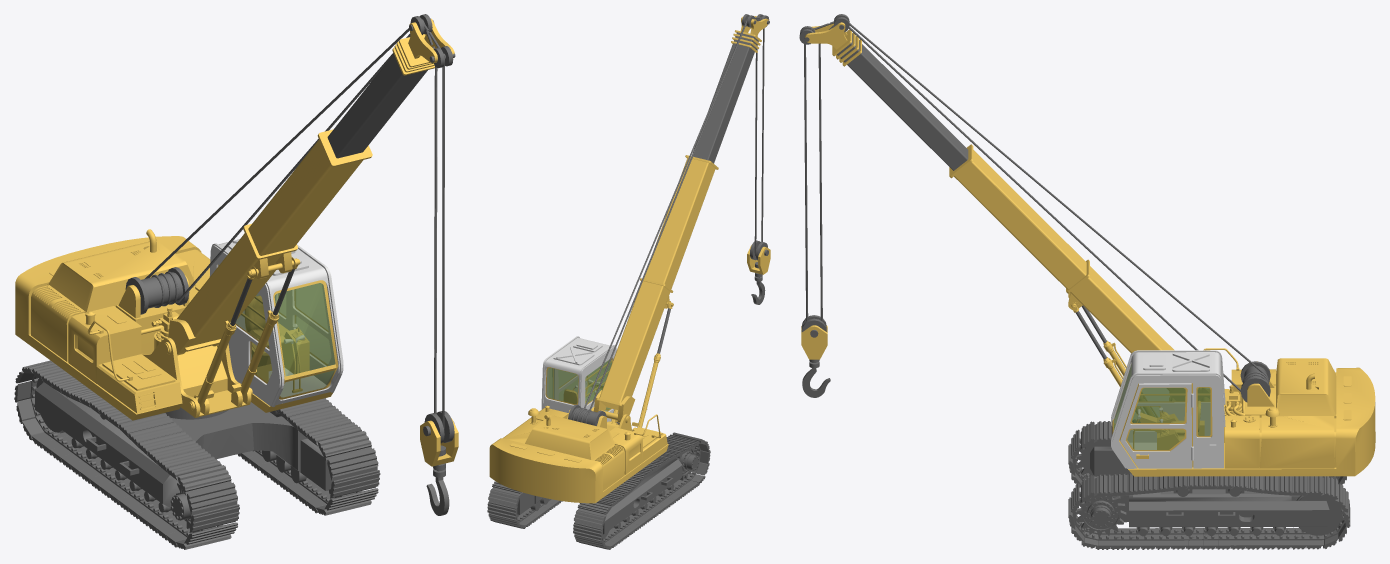
3 views of the same model, side by side, from view 1: azimuth 30°, elevation 25°; view 2: azimuth 150°, elevation 25°; view 3: azimuth 270°, elevation 25° (orthographic). The views are drawn at different scales.
Parts seen in each view (by area): view 1: cadnav, crawler, crane2, cabin2, cabin1, crane1, hook, cadnav.002; view 2: cadnav, crawler, crane2, cabin2, cabin1, crane1, hook, cadnav.002; view 3: cadnav, crawler, cabin2, crane2, cabin1, crane1, hook, cadnav.002.
Boxes of the visible parts, x1,y1,x2,y2 form: cadnav: [15, 129, 372, 420]; crawler: [14, 360, 380, 549]; crane2: [125, 14, 438, 325]; cabin2: [209, 239, 343, 406]; cabin1: [236, 283, 335, 397]; crane1: [428, 32, 455, 429]; hook: [420, 411, 458, 515]; cadnav.002: [392, 18, 454, 75]; cadnav: [489, 155, 718, 503]; crawler: [487, 422, 710, 549]; crane2: [568, 14, 759, 425]; cabin2: [541, 336, 618, 421]; cabin1: [546, 359, 611, 411]; crane1: [754, 14, 769, 255]; hook: [747, 240, 770, 304]; cadnav.002: [731, 16, 768, 52]; cadnav: [949, 144, 1375, 476]; crawler: [1068, 420, 1350, 549]; cabin2: [1111, 350, 1225, 468]; crane2: [815, 14, 1270, 402]; cabin1: [1113, 364, 1210, 449]; crane1: [799, 23, 828, 321]; hook: [801, 315, 830, 397]; cadnav.002: [805, 22, 861, 66].
Bounding box in the file's own units: 23.75 × 75.78 × 80.06.
